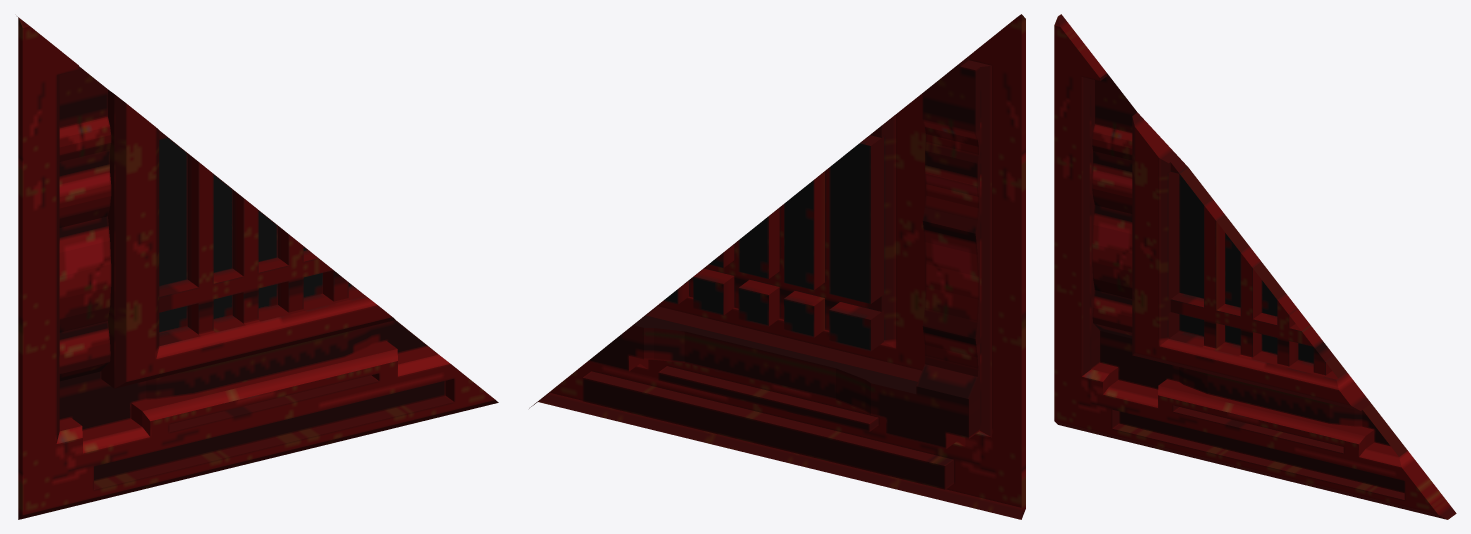
Rendered from sci2_1_slicelh.fbx.
3 views of the same model, side by side, from view 1: azimuth 30°, elevation 25°; view 2: azimuth 150°, elevation 25°; view 3: azimuth 330°, elevation 25° (orthographic). The views are drawn at different scales.
Parts seen in each view (by area): view 1: sci2_1_mesh; view 2: sci2_1_mesh; view 3: sci2_1_mesh.
Part boxes in pixels (x1,y1,x2,y2): sci2_1_mesh: (17,16,498,519); sci2_1_mesh: (529,14,1025,519); sci2_1_mesh: (1054,14,1456,519).
Bounding box in the file's own units: 256 × 256 × 16.
